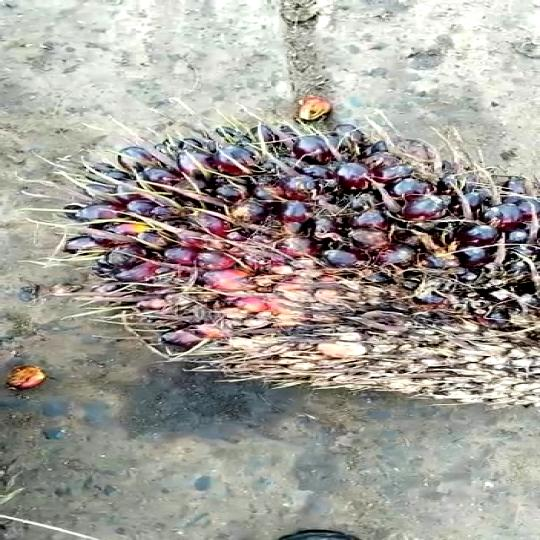mentah: (56, 114, 540, 413)
